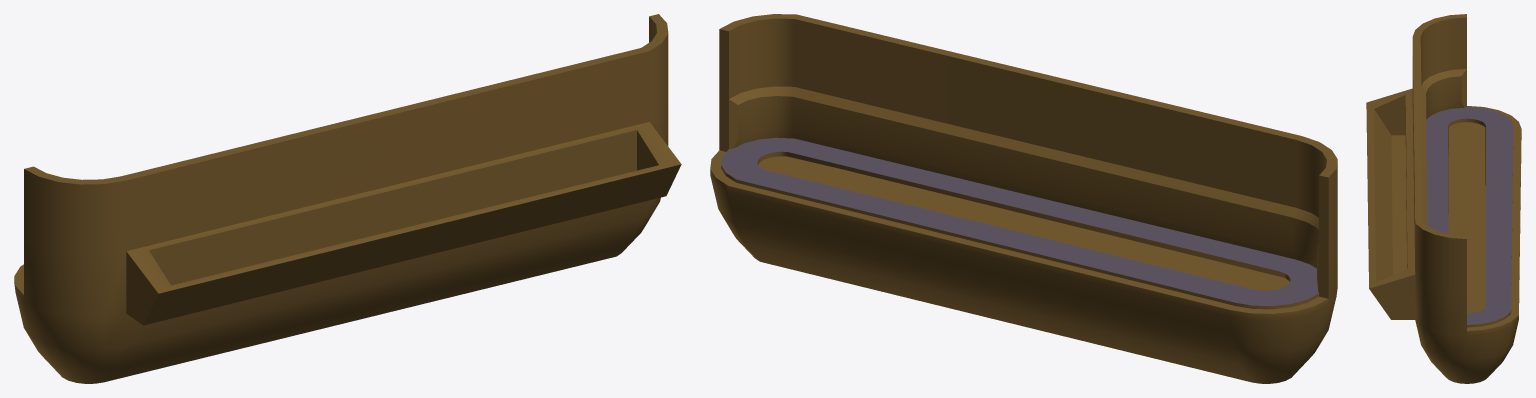
Rendered from Pew.fbx.
3 renders of one model, left to right at view 1: azimuth 30°, elevation 25°; view 2: azimuth 150°, elevation 25°; view 3: azimuth 270°, elevation 25°, orthographic. The views are drawn at different scales.
Visible parts, largest first — view 1: polySurface10; view 2: polySurface10; view 3: polySurface10.
Boxes of the visible parts, left/top/right/bottom form: polySurface10: left=14, top=14, right=681, bottom=383; polySurface10: left=710, top=14, right=1337, bottom=383; polySurface10: left=1366, top=14, right=1521, bottom=383.
Bounding box in the file's own units: 26.75 × 8.78 × 7.79.
